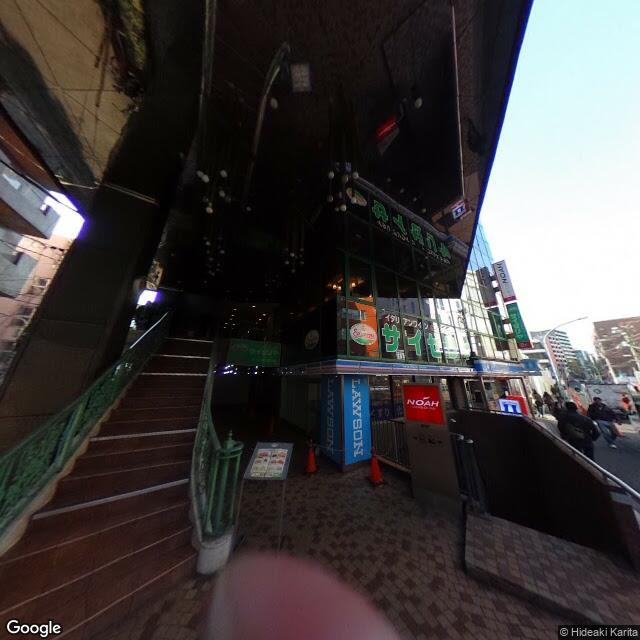lawson: (311, 351, 535, 377), (345, 373, 375, 465), (318, 373, 343, 464), (498, 392, 523, 419)
